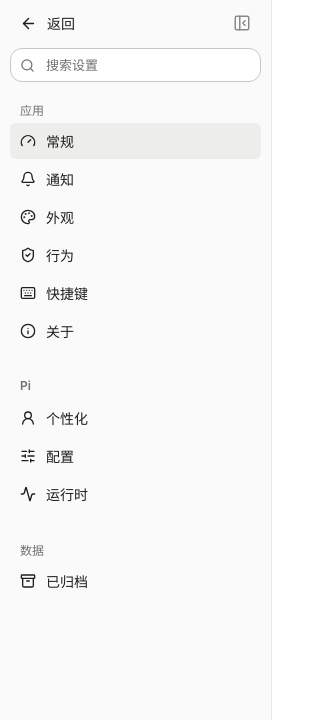
it: SettingsSidebar › 搜索无结果时显示空状态
The image size is (320, 720).
Type "不存在的选项" into the search field labelled "搜索设置". click: (148, 65)
box: [44,56,251,74]
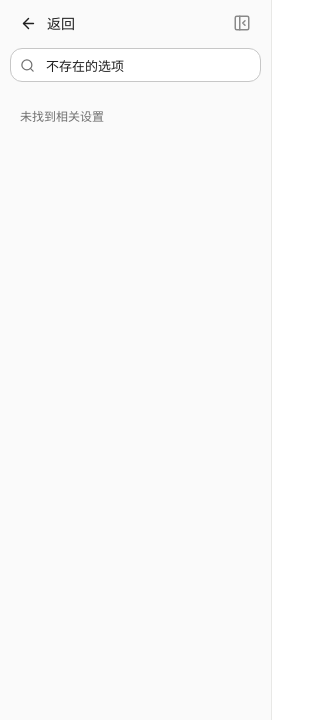
Now the text "未找到相关设置" is shown, box [20,109,104,124]
